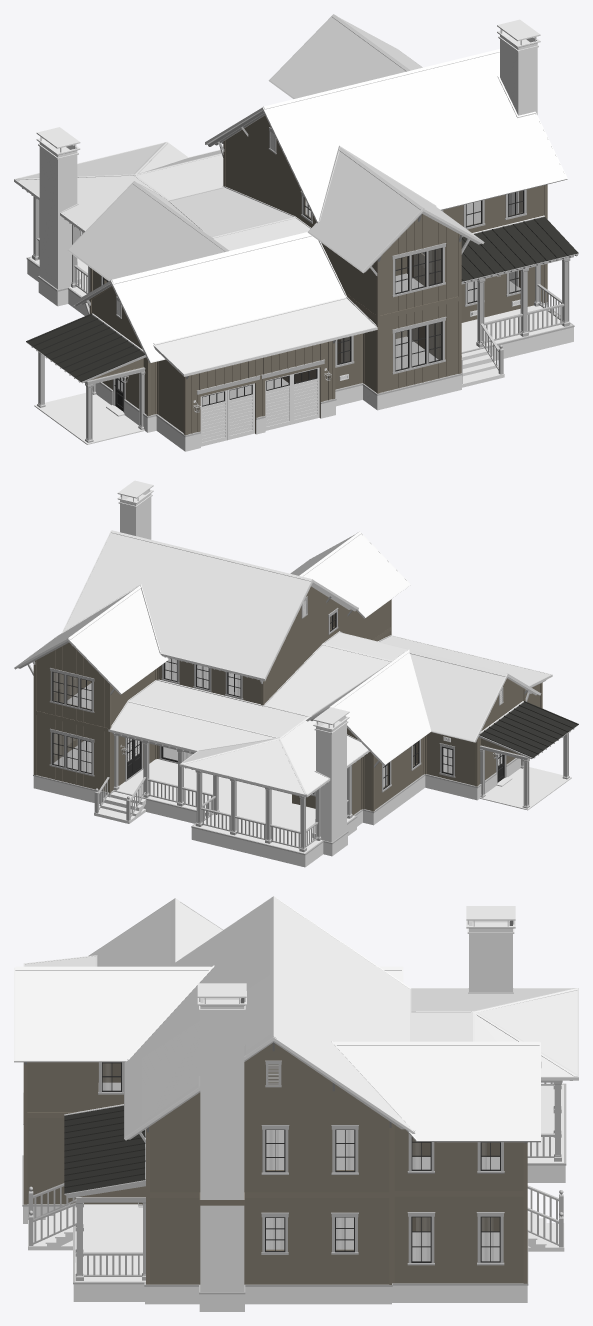
File: Building (24).glb
The picture shows the model from 3 angles, top to bottom: view 1: azimuth 30°, elevation 25°; view 2: azimuth 150°, elevation 25°; view 3: azimuth 270°, elevation 25°; orthographic projection. The views are drawn at different scales.
Visible parts, largest first — view 1: American_House_00; view 2: American_House_00; view 3: American_House_00.
Boxes of the visible parts, box(x1,y1,x2,y2) form: American_House_00: box(14, 14, 578, 451); American_House_00: box(14, 480, 578, 867); American_House_00: box(14, 896, 578, 1311).
Bounding box in the file's own units: 24.29 × 12.34 × 19.98.
